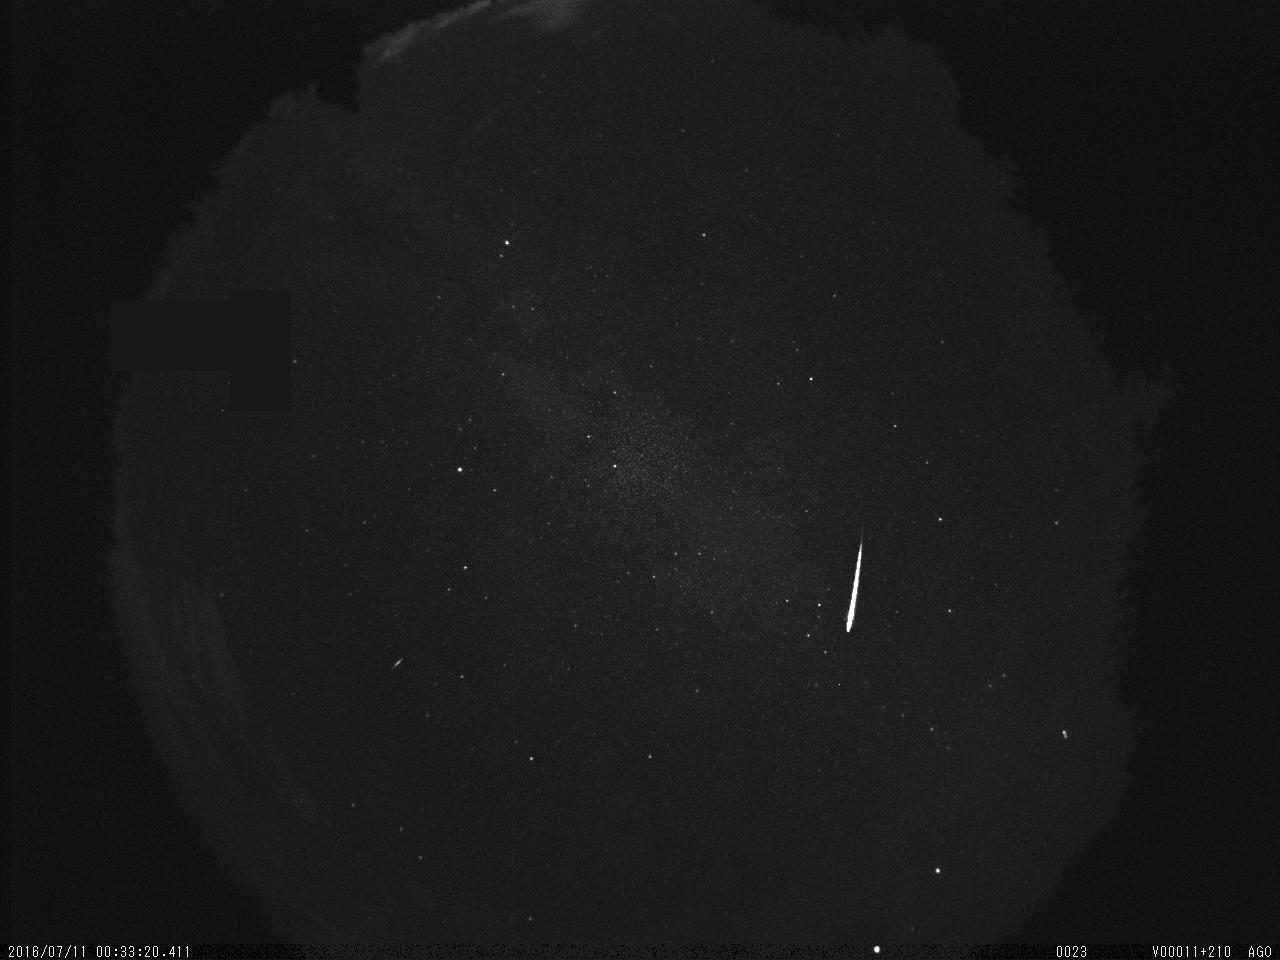meteor: (833, 535, 876, 638)
